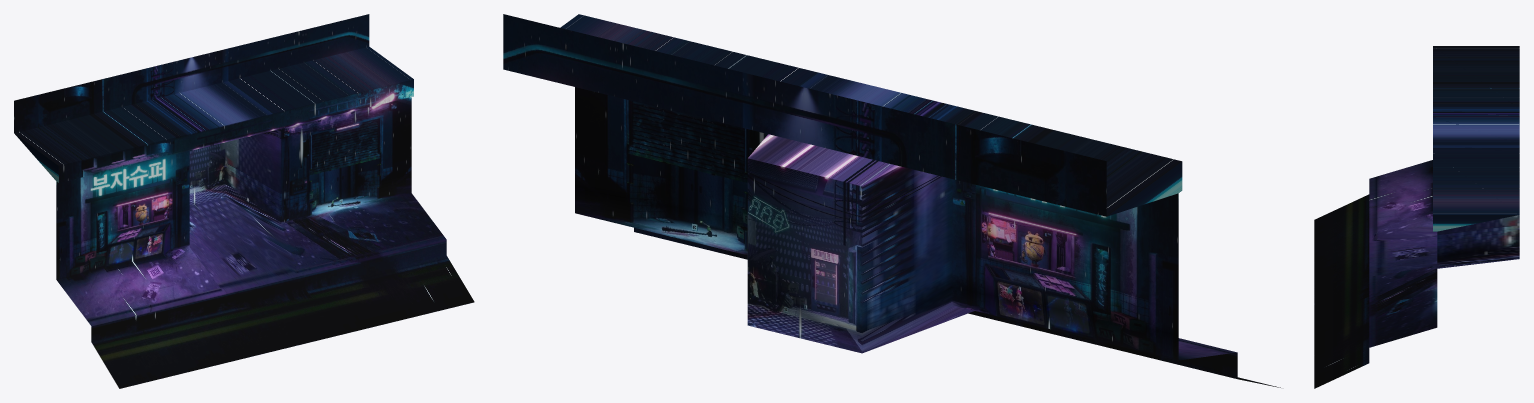
Rendered from fondo b.fbx.
3 renders of one model, left to right at view 1: azimuth 30°, elevation 25°; view 2: azimuth 150°, elevation 25°; view 3: azimuth 270°, elevation 25°, orthographic. The views are drawn at different scales.
Visible parts, largest first — view 1: pPlane1; view 2: pPlane1; view 3: pPlane1.
Part boxes in pixels (x1,y1,x2,y2): pPlane1: [14, 14, 474, 388]; pPlane1: [503, 14, 1280, 387]; pPlane1: [1314, 46, 1519, 388].
Size of the model in its own units: 19.13 by 10.87 by 9.83.
1 material, 1 textured.
